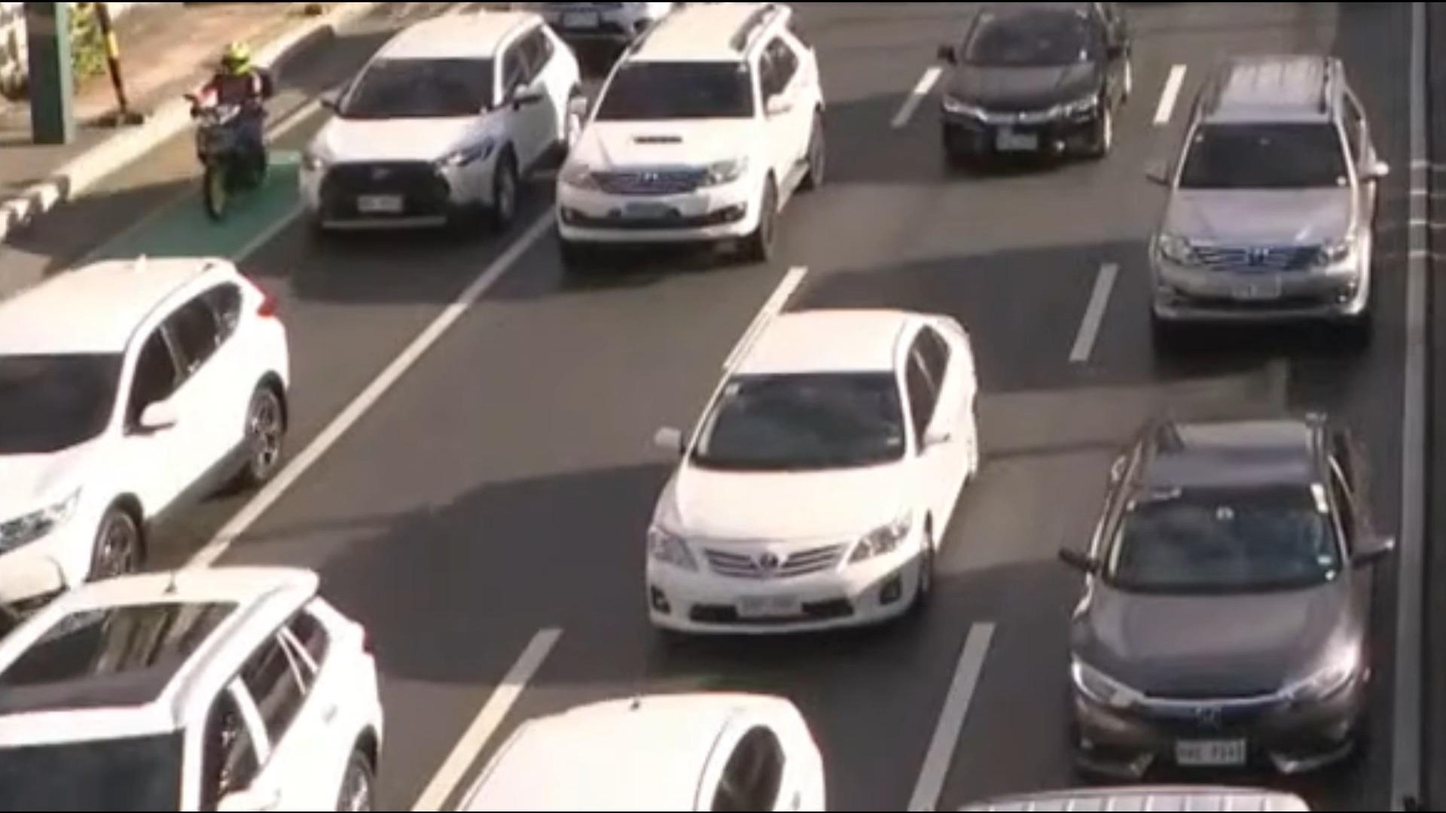Motorcycle: (183, 37, 271, 234)
SUV: (0, 259, 292, 588), (0, 570, 393, 813), (570, 10, 830, 270), (1141, 55, 1373, 328)
Sedan: (1071, 414, 1378, 773), (641, 306, 964, 634), (301, 16, 581, 231), (431, 688, 837, 813), (927, 0, 1134, 167)
